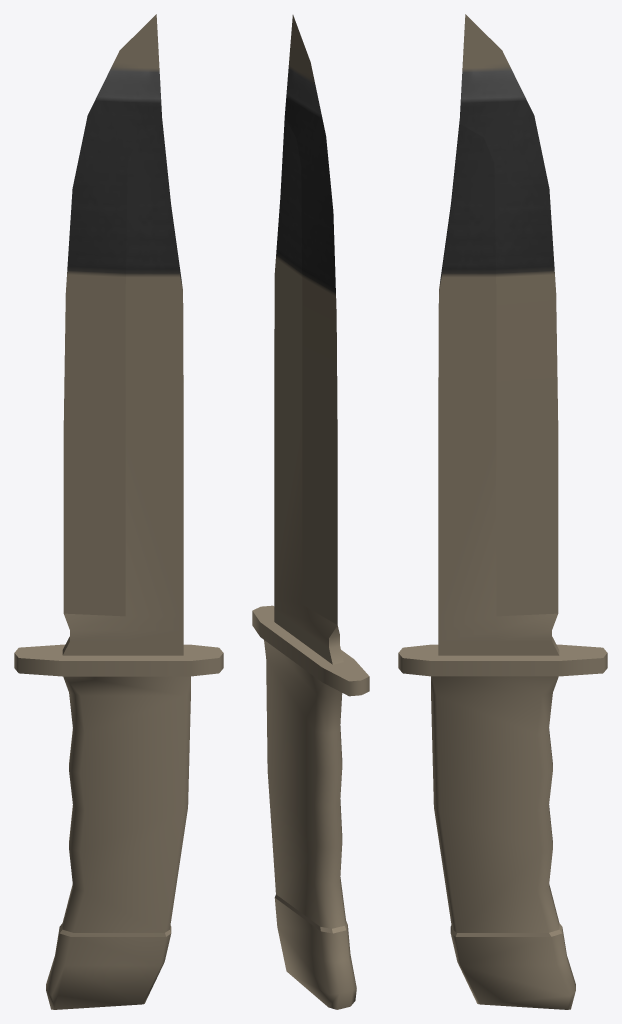
File: HuntingKnife.fbx
3 renders of one model, left to right at view 1: azimuth 90°, elevation 25°; view 2: azimuth 210°, elevation 25°; view 3: azimuth 270°, elevation 25°, orthographic. The views are drawn at different scales.
Parts seen in each view (by area): view 1: HuntingKnife; view 2: HuntingKnife; view 3: HuntingKnife.
Part boxes in pixels (x1,y1,x2,y2): HuntingKnife: (14, 14, 223, 1009); HuntingKnife: (252, 15, 369, 1009); HuntingKnife: (398, 14, 607, 1009).
Size of the model in its own units: 0.01 by 0.2817 by 0.0538.
